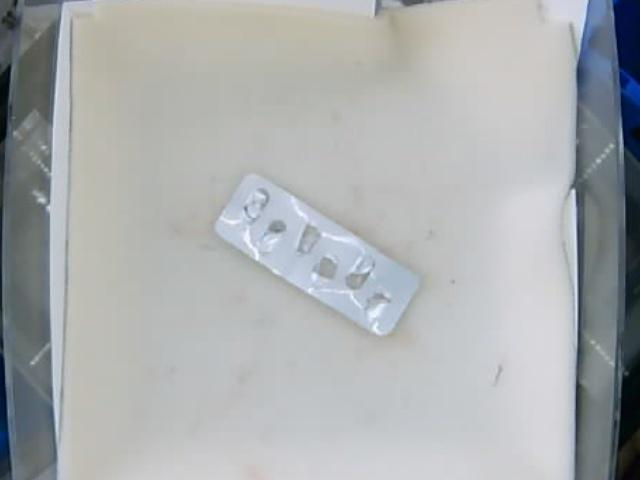Medicine: (217, 173, 419, 337)
